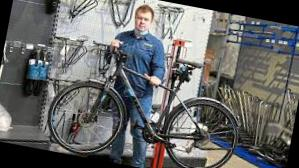mask_weared_incorrect: (133, 13, 152, 36)
